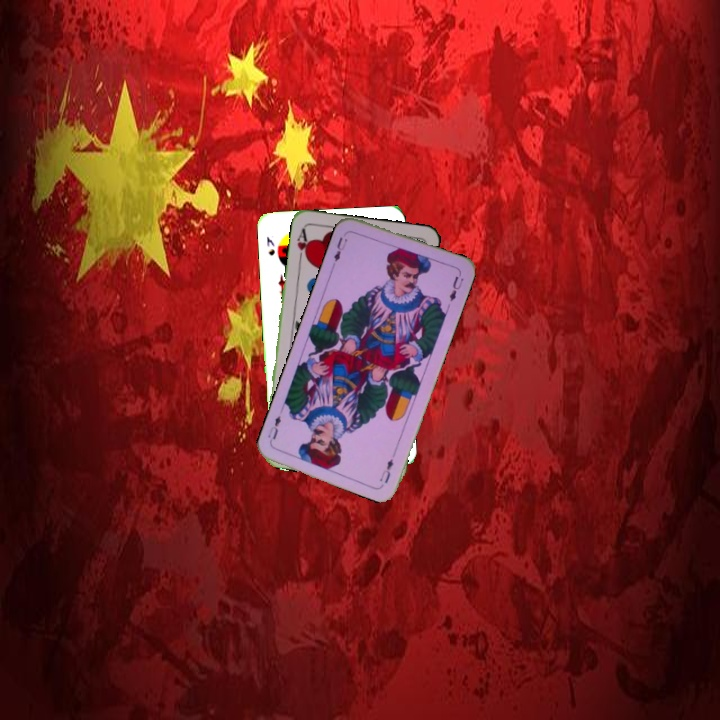EU: (329, 233, 350, 268), (375, 455, 396, 486)
HA: (292, 224, 312, 264)
SK: (263, 233, 277, 258)
